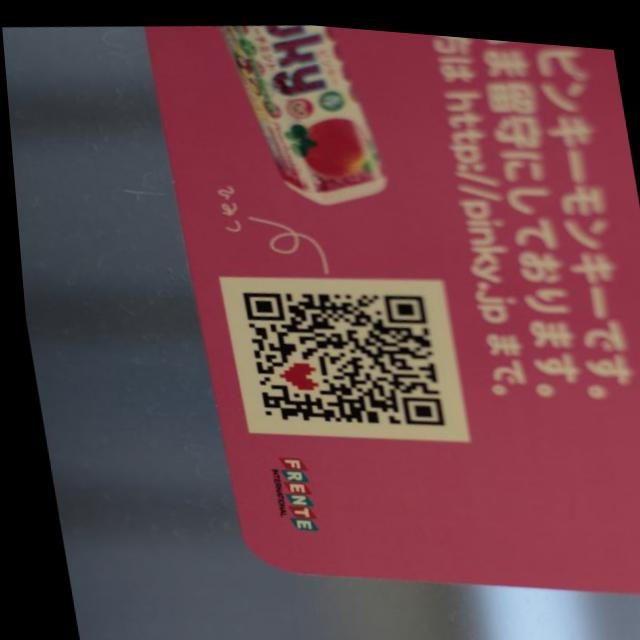qrcode: (236, 273, 440, 434)
